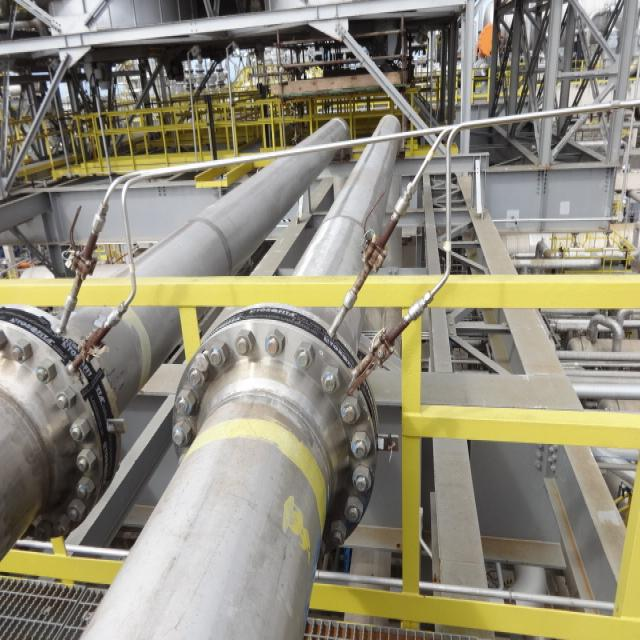gas: (82, 117, 400, 640), (0, 115, 344, 566)
